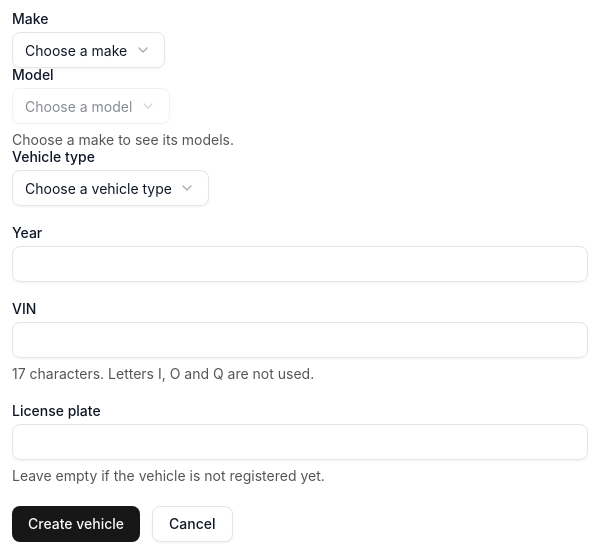
Test: VehicleForm › shows field errors with aria wiring and keeps echoed values
Select "Toyota" in the dropdown labelled "Make" at (88, 50), box [12,32,165,68]
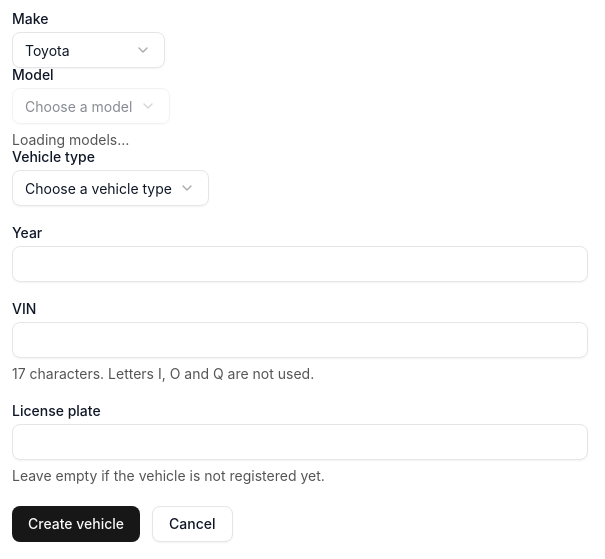
Select "Van" in the dropdown labelled "Vehicle type" at (110, 188), box [12,170,209,206]
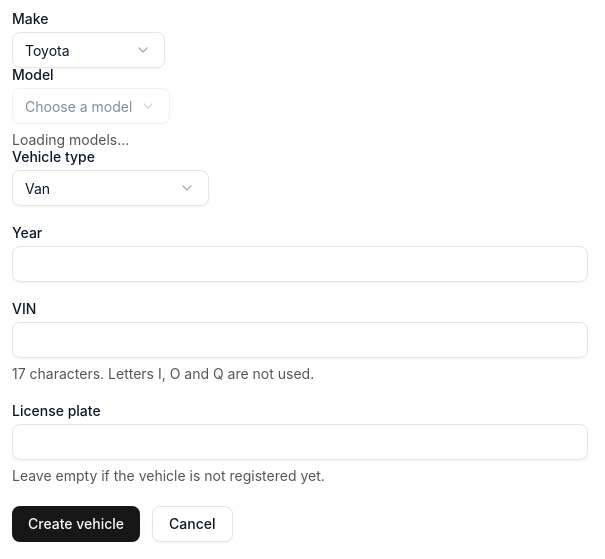
Submit the form
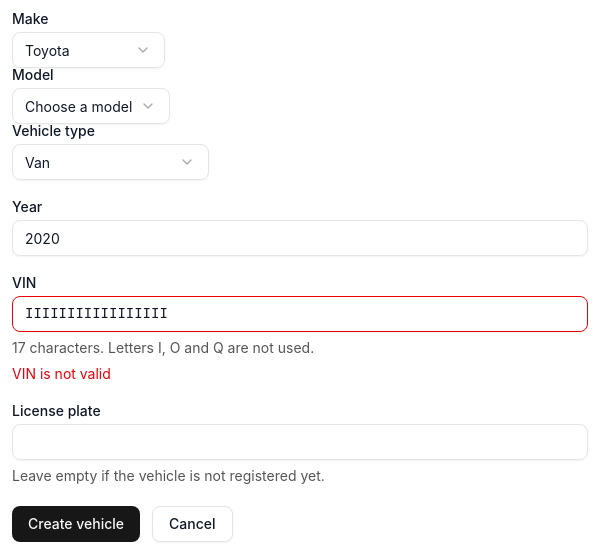
Expected: the dropdown labelled "Make" shows "Toyota", [12,32,165,68]
Expected: the dropdown labelled "Vehicle type" shows "Van", [12,144,209,180]
Expected: the field labelled "VIN" holds "IIIIIIIIIIIIIIIII", [12,296,588,332]
